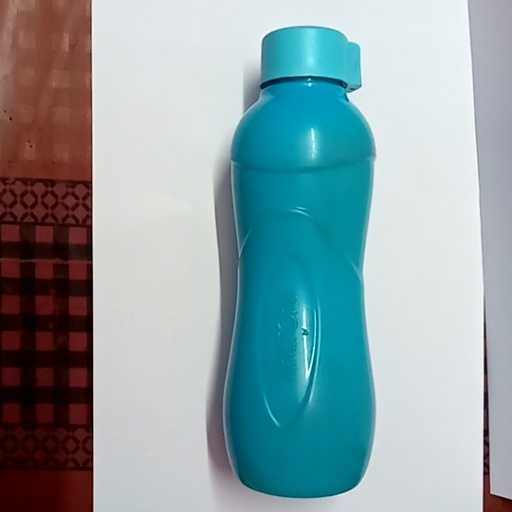bottle: (147, 14, 462, 511)
